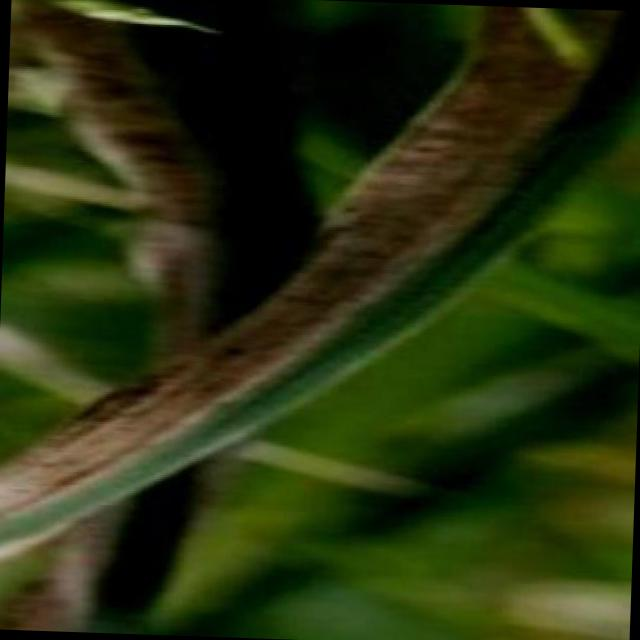Rice_Bacterial_Blight: (348, 35, 604, 324)
